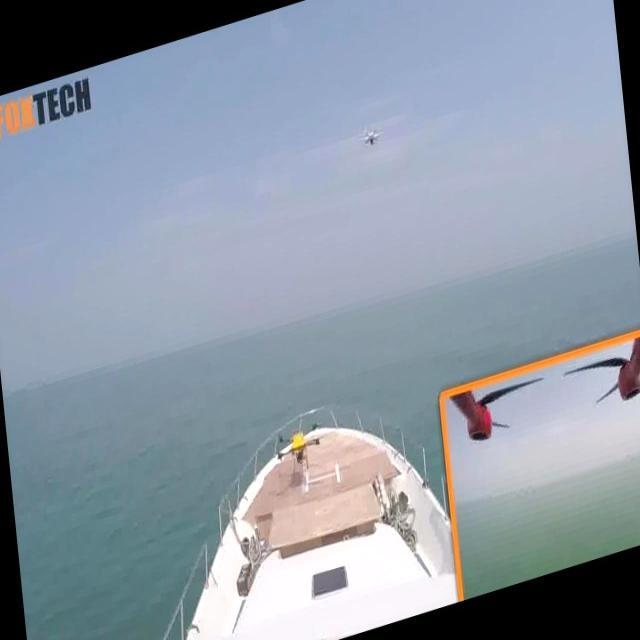drone: (359, 120, 382, 152)
